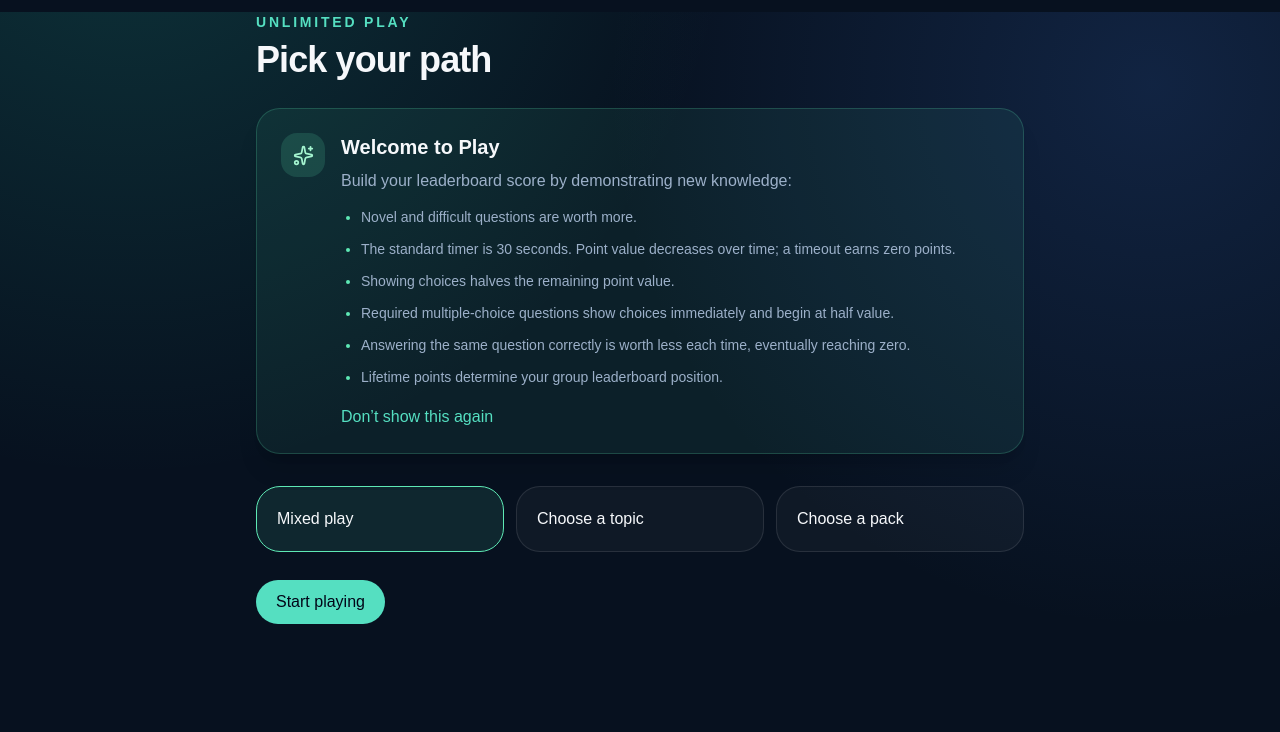
Test: PlayGame choice submission › explains scoring and lets the player turn off the introduction
Expected: the heading "Welcome to Play" is shown, 341,136 -> 500,158
Expected: the list item "Novel and difficult questions are worth more." is shown, 361,209 -> 637,225
Click the button "Don’t show this again".
click(417, 417)  # box 341,405 -> 493,429
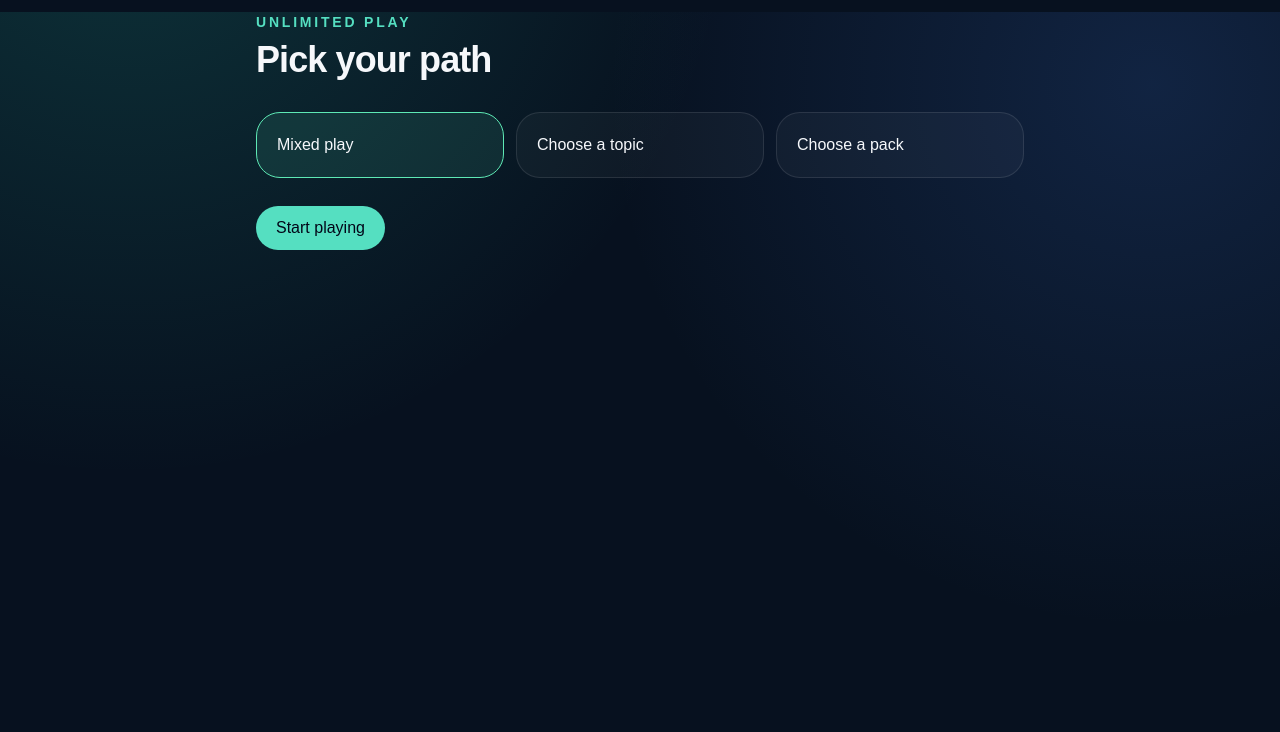
Expected: the heading "Welcome to Play" is gone
